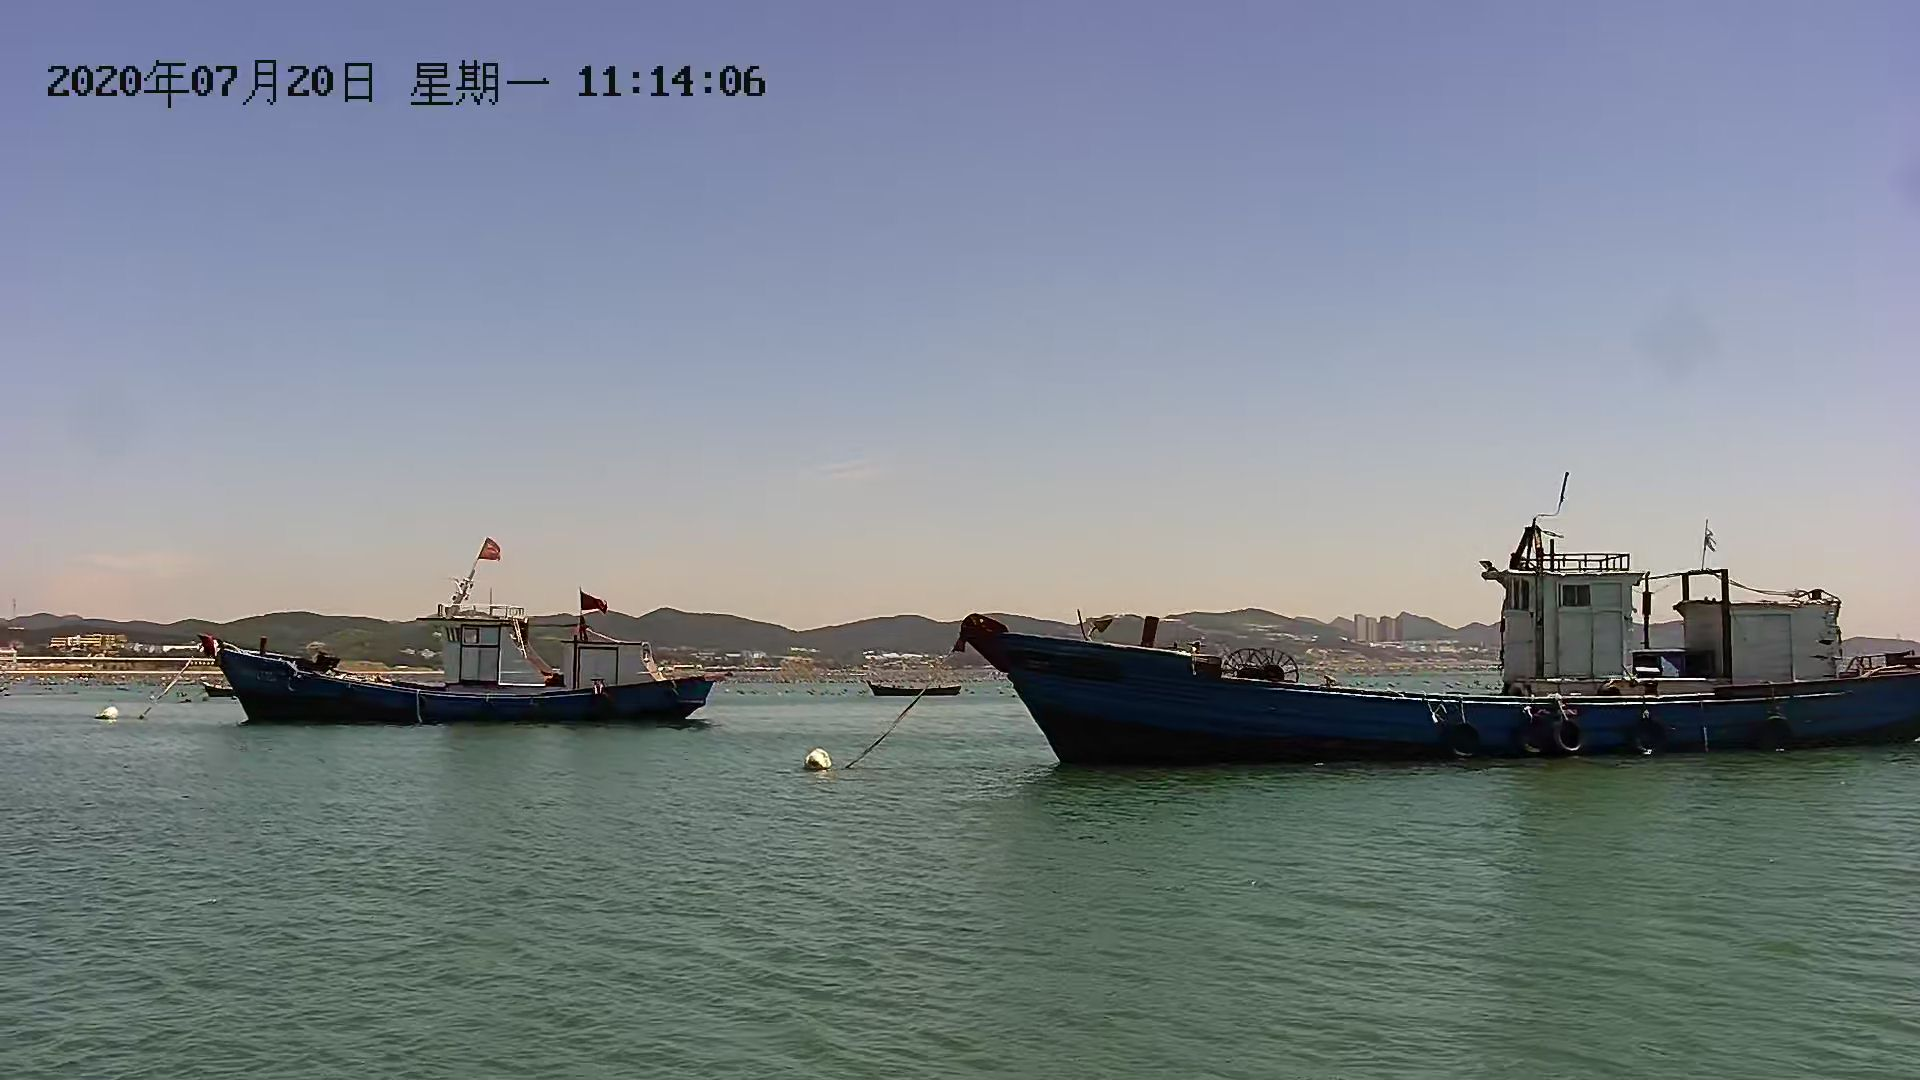ball: (799, 746, 837, 775), (88, 705, 129, 721)
boat: (949, 567, 1920, 771), (203, 574, 723, 731), (866, 680, 967, 699)
